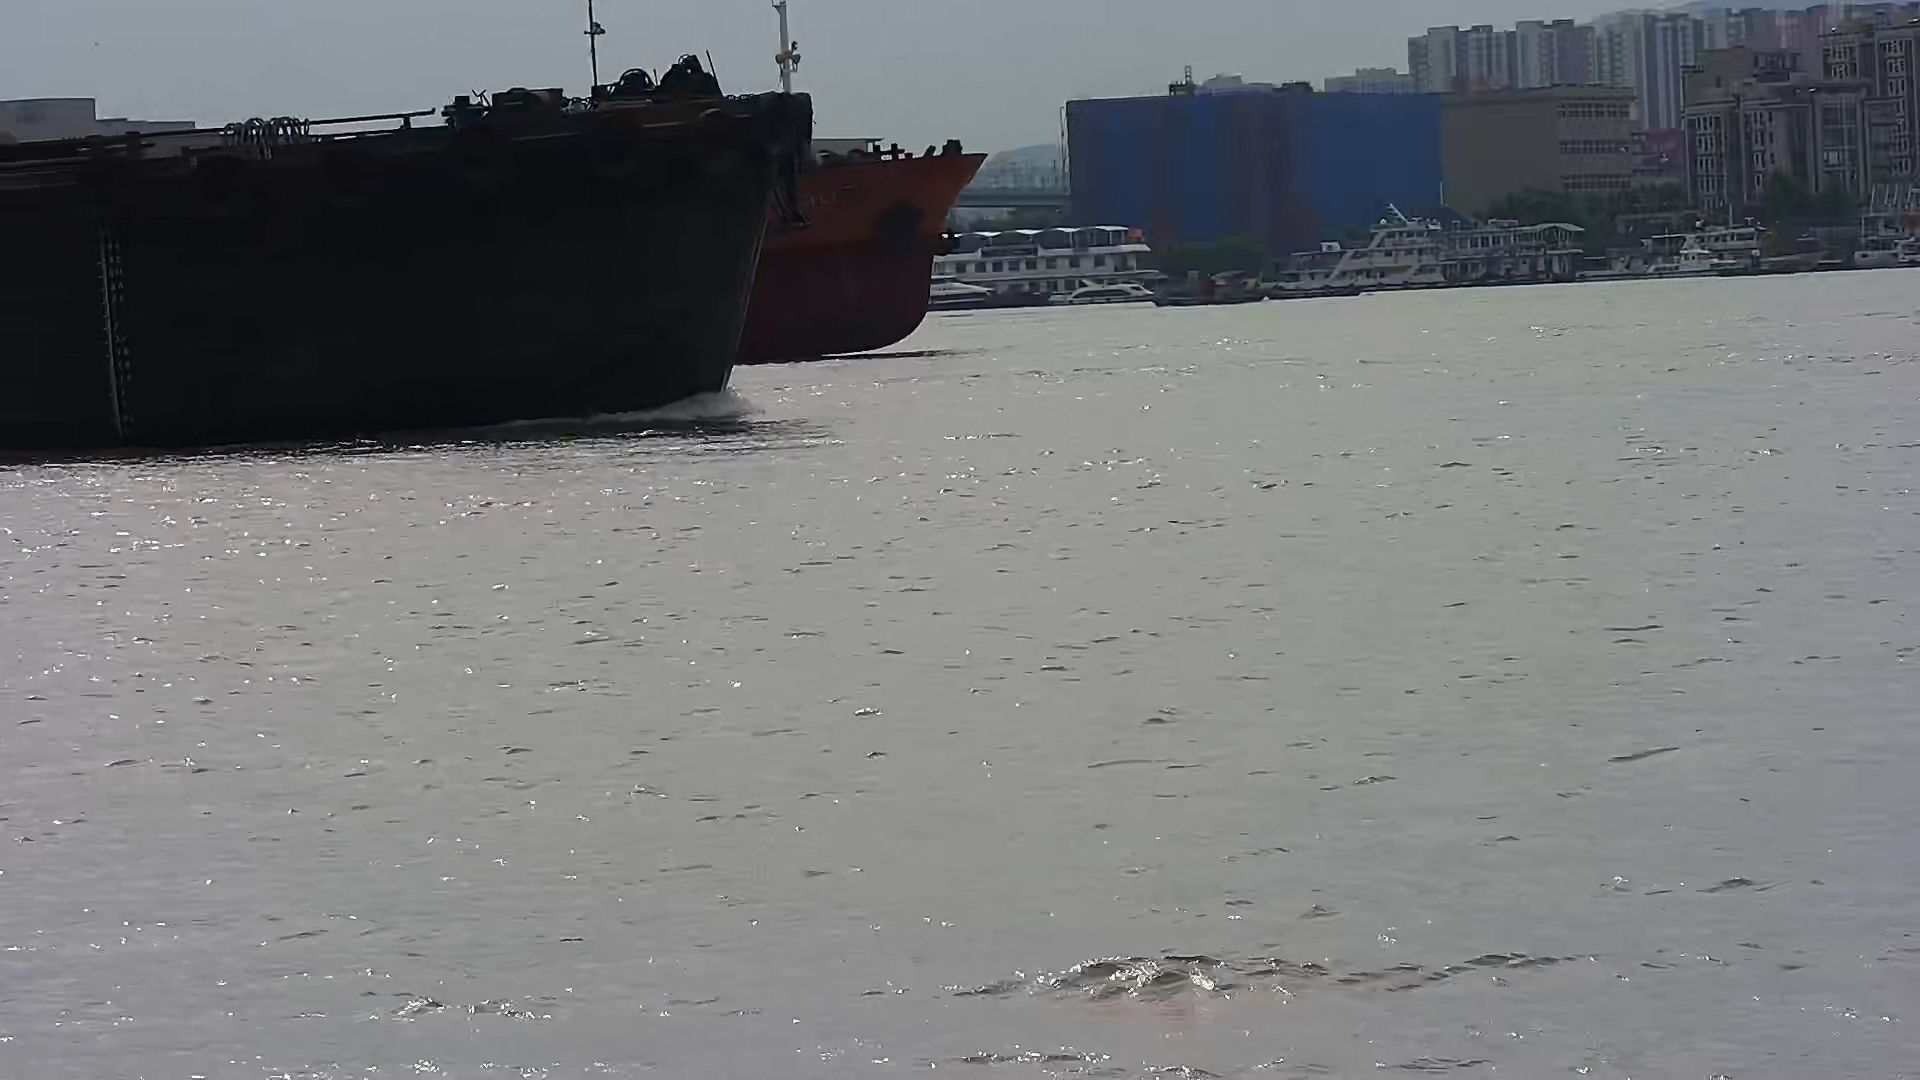boat: (1153, 284, 1269, 306), (1269, 284, 1357, 297)
ship: (1, 3, 804, 454), (732, 4, 989, 363), (1280, 204, 1453, 297), (1619, 229, 1756, 276), (928, 276, 1052, 311), (1065, 272, 1153, 302)
